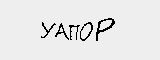Е: (17, 23, 30, 41)
З: (123, 18, 150, 45)
Р: (46, 23, 63, 43)
Ч: (29, 24, 46, 41)
Ю: (87, 19, 122, 43)
Ө: (65, 23, 87, 42)
